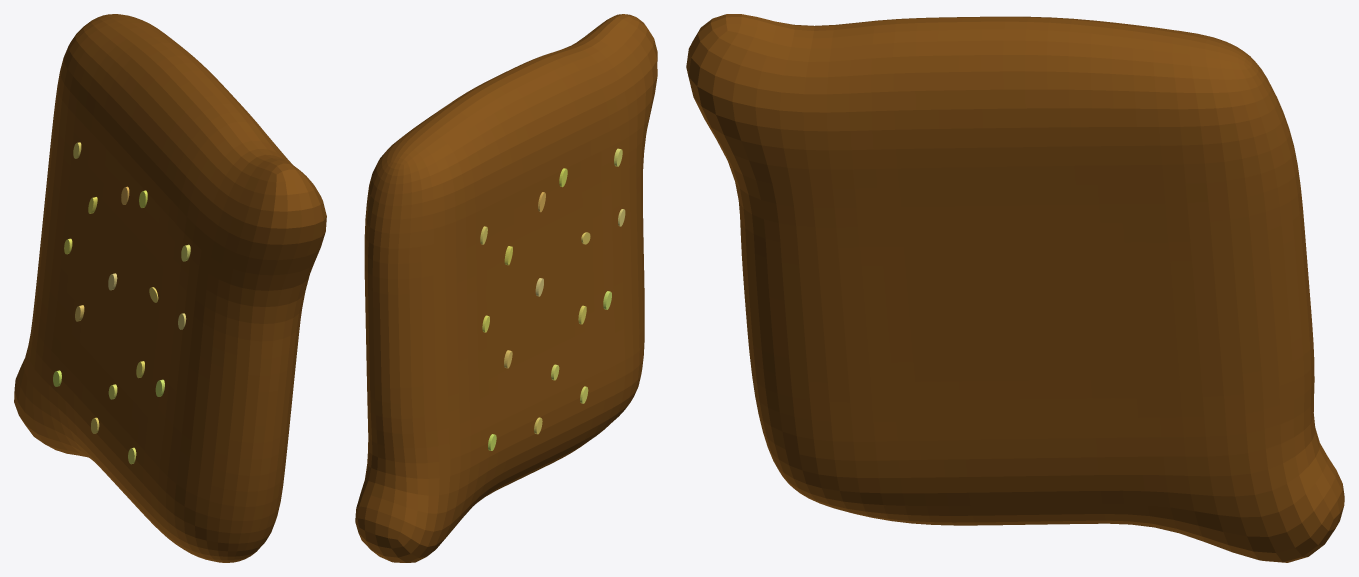
File: panglb.glb
3 views of the same model, side by side, from view 1: azimuth 30°, elevation 25°; view 2: azimuth 150°, elevation 25°; view 3: azimuth 270°, elevation 25° (orthographic). The views are drawn at different scales.
Visible parts, largest first — view 1: Cube; view 2: Cube; view 3: Cube.
Part boxes in pixels (x1=…): Cube: x1=14, y1=14, x2=326, y2=562; Cube: x1=355, y1=14, x2=657, y2=562; Cube: x1=686, y1=14, x2=1344, y2=562.
Bounding box in the file's own units: 0.6205 × 1.92 × 2.12.
